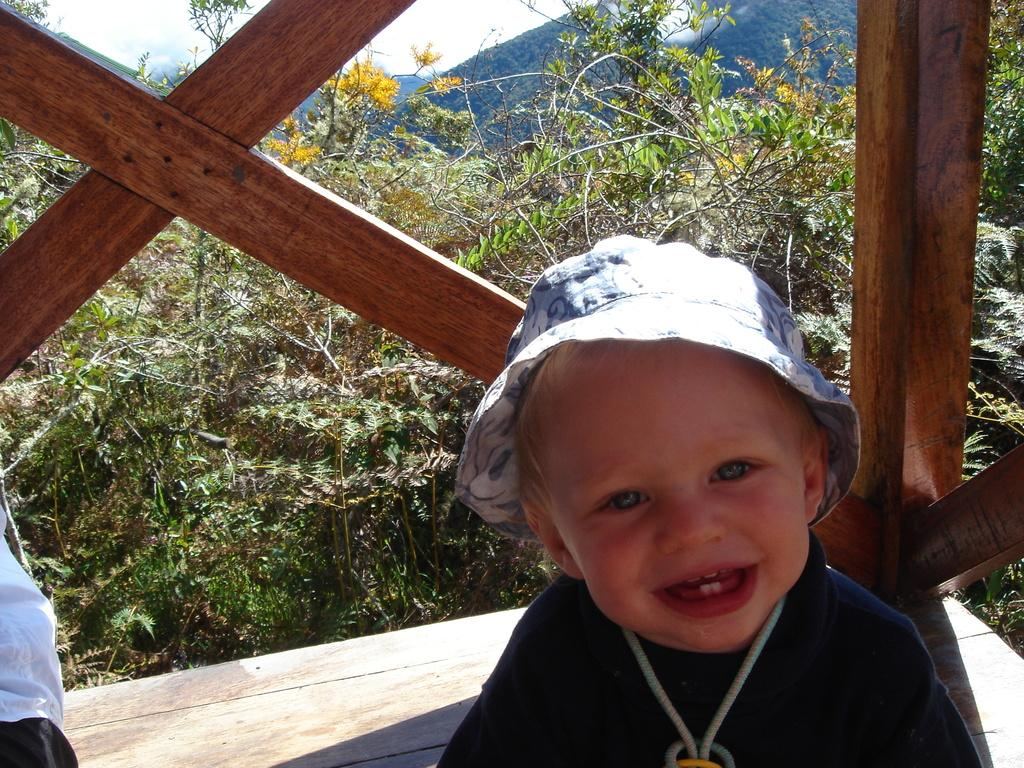Hat: (454, 231, 862, 544)
